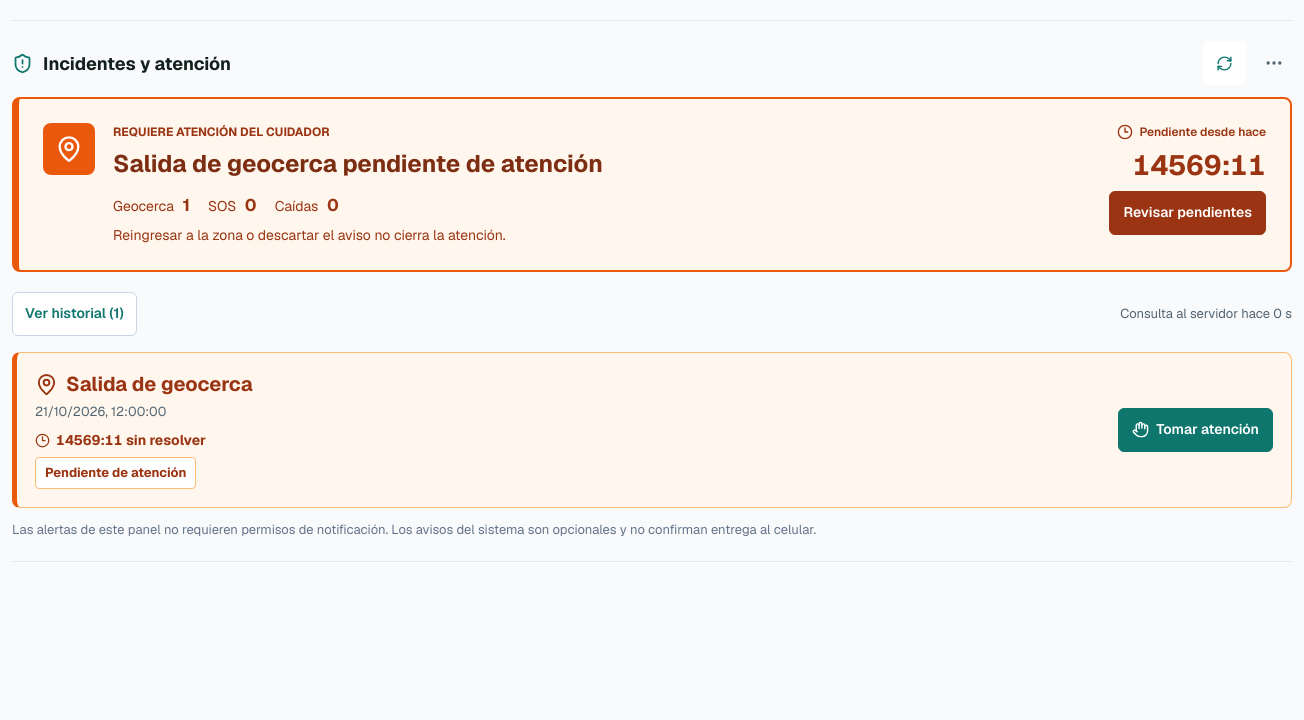
Test: a transient connection failure cannot dismiss a previously received pending incident
Check: the message named "Atención pendiente" is shown, box [12,97,1292,272]
Click the button named "Consultar incidentes" at (1224, 63), box [1203,41,1246,85]
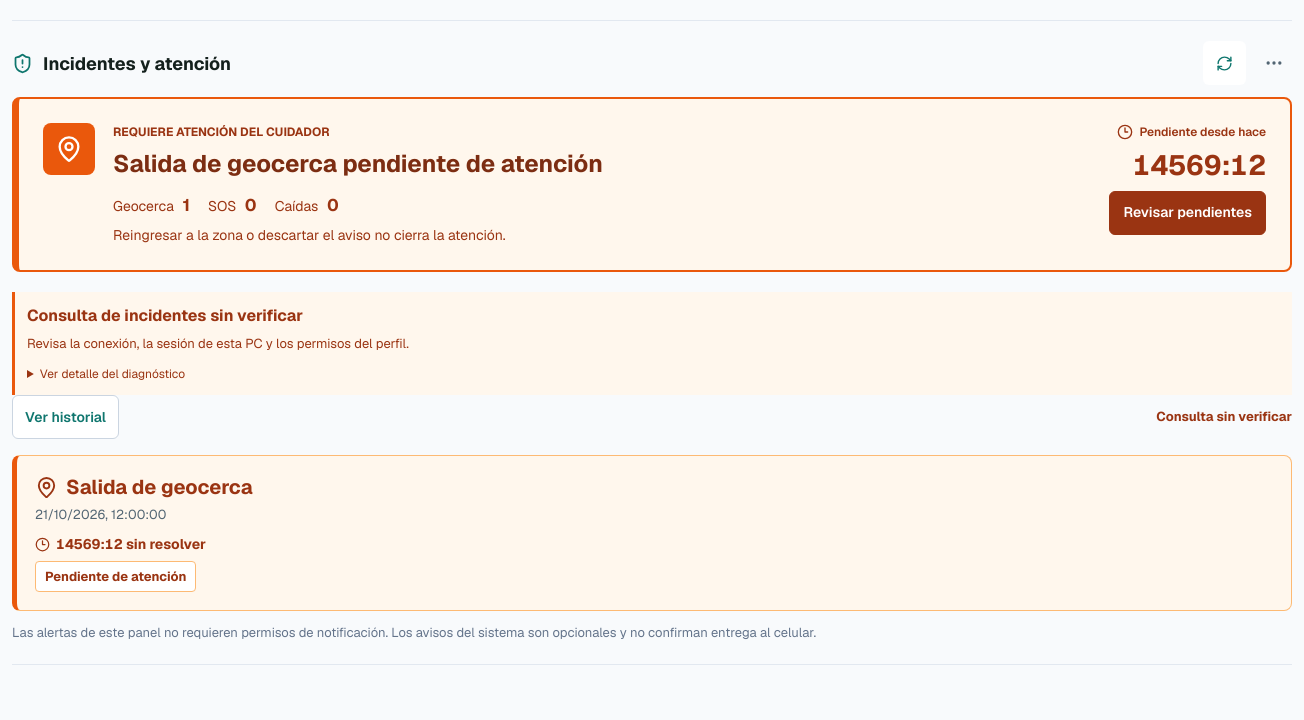
Check: the message named "Atención pendiente" is shown, box [12,97,1292,272]
Check: the button "Tomar atención" is gone
